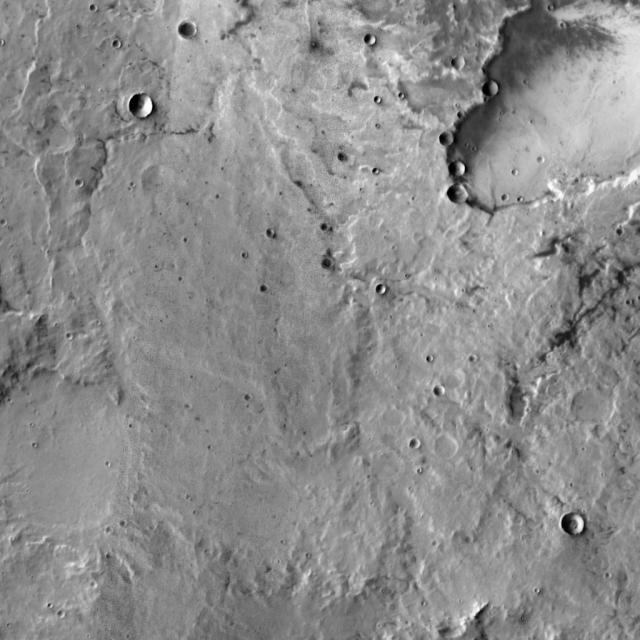crater: (485, 0, 640, 194), (0, 372, 149, 547), (452, 98, 572, 217), (579, 383, 622, 425), (145, 166, 180, 202), (133, 95, 158, 119), (566, 510, 589, 533), (438, 435, 461, 457), (452, 184, 472, 206), (486, 81, 504, 99), (183, 22, 201, 40), (453, 161, 470, 178), (444, 132, 458, 147), (326, 258, 339, 270), (438, 384, 450, 396), (381, 284, 392, 295), (458, 56, 468, 66), (369, 36, 379, 46), (414, 438, 424, 448), (472, 353, 482, 362), (80, 178, 88, 188), (118, 40, 126, 49), (344, 150, 352, 158), (272, 226, 280, 234), (264, 282, 272, 290), (541, 155, 549, 163), (318, 213, 326, 220), (118, 510, 125, 518), (424, 347, 432, 354), (1, 40, 8, 48), (506, 193, 513, 201), (110, 528, 117, 536), (62, 610, 69, 618), (454, 104, 461, 111), (509, 162, 516, 169), (242, 385, 250, 391), (64, 326, 70, 332), (87, 0, 94, 4), (0, 211, 4, 218)
